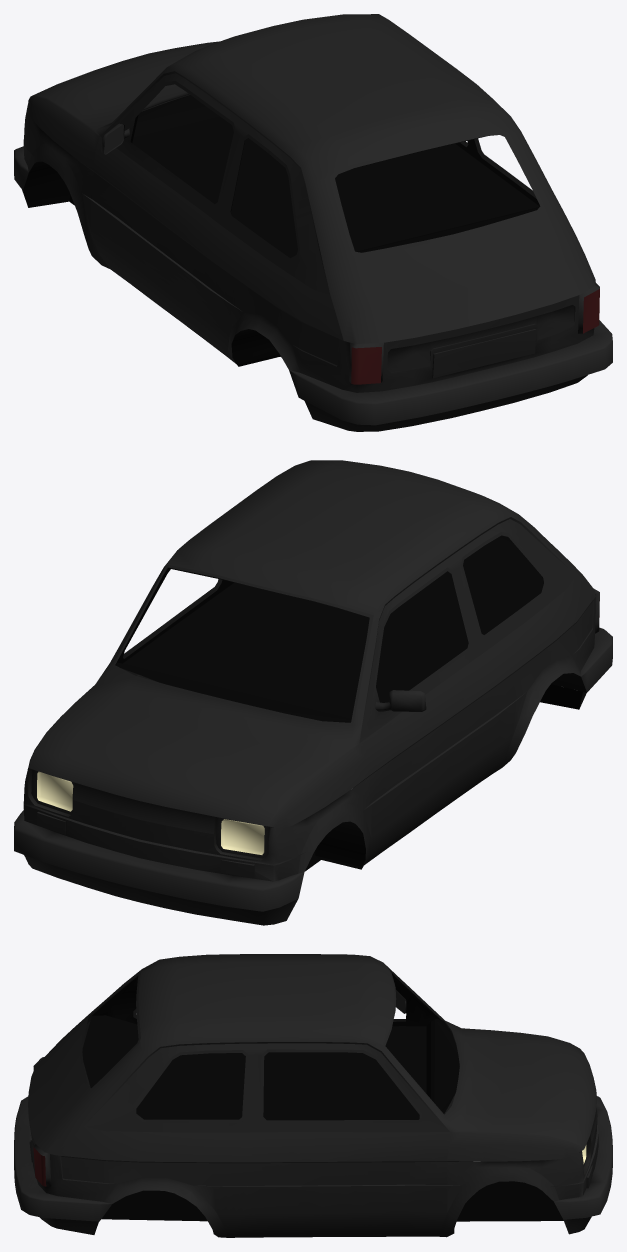
The picture shows the model from 3 angles, top to bottom: view 1: azimuth 30°, elevation 25°; view 2: azimuth 150°, elevation 25°; view 3: azimuth 270°, elevation 25°; orthographic projection. The views are drawn at different scales.
Parts seen in each view (by area): view 1: car; view 2: car; view 3: car.
Part boxes in pixels (box(x1,y1,x2,y2)): car: box(14, 14, 612, 431); car: box(14, 460, 612, 925); car: box(14, 954, 612, 1237).
Size of the model in its own units: 1.5 by 1.12 by 3.04.
Materials: 9 (8 with a texture image).
